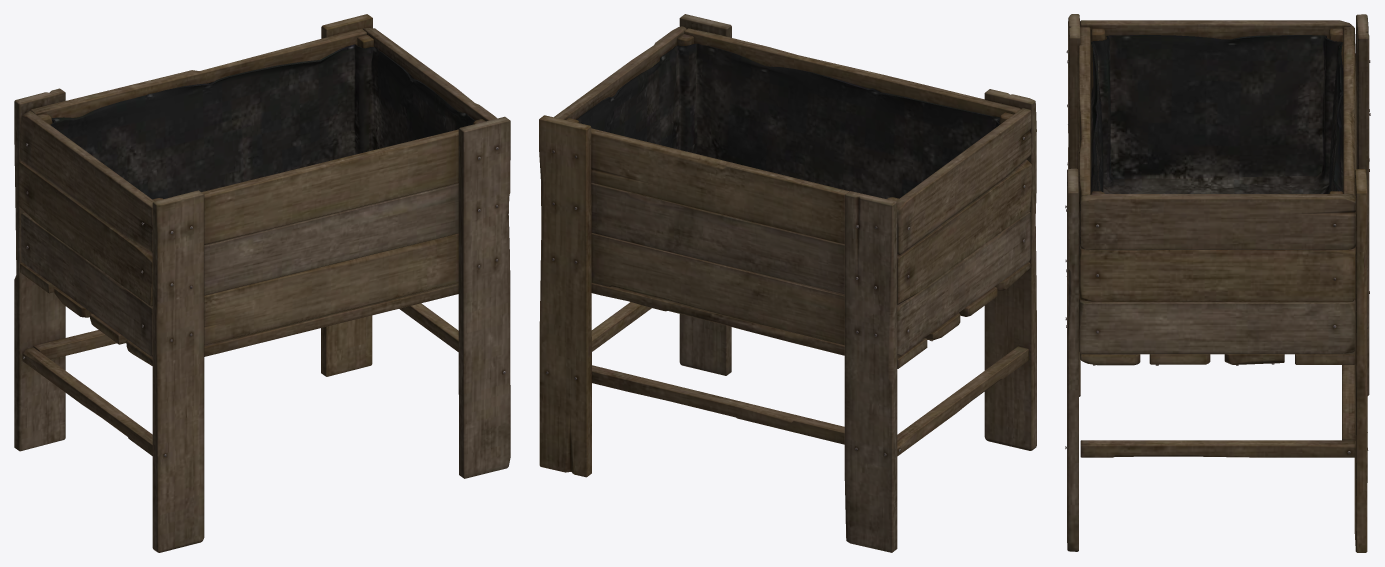
Rendered from planter_box_03.glb.
3 views of the same model, side by side, from view 1: azimuth 30°, elevation 25°; view 2: azimuth 150°, elevation 25°; view 3: azimuth 270°, elevation 25° (orthographic). The views are drawn at different scales.
Visible parts, largest first — view 1: planter_box_03; view 2: planter_box_03; view 3: planter_box_03.
Part boxes in pixels (x1,y1,x2,y2): planter_box_03: (14, 14, 510, 552); planter_box_03: (539, 14, 1036, 552); planter_box_03: (1065, 14, 1370, 552).
Bounding box in the file's own units: 0.9143 × 0.8552 × 0.6556.
Materials: 1 (1 with a texture image).
